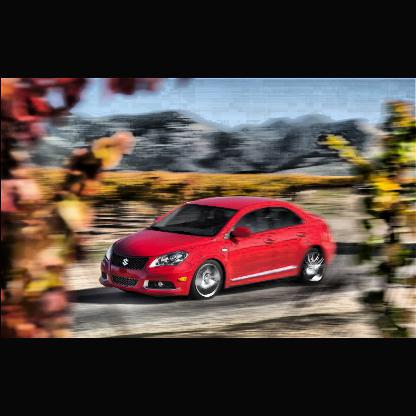Suzuki Kizashi Sedan 2012: (102, 195, 339, 299)
